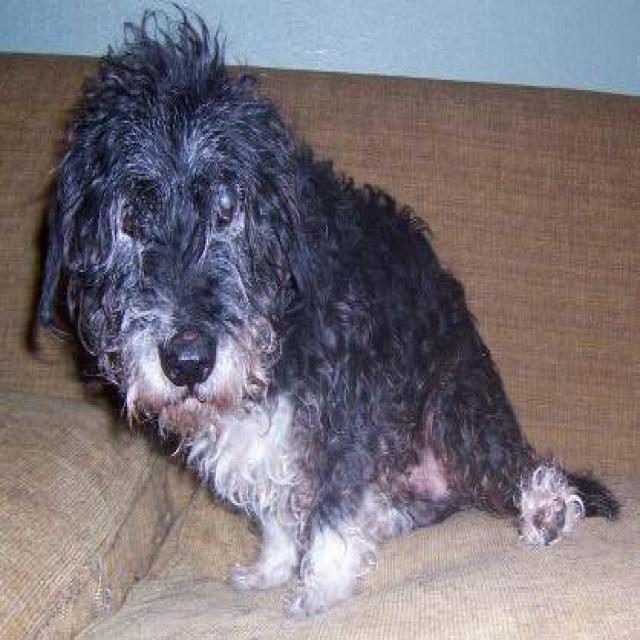dog: (28, 0, 622, 618)
